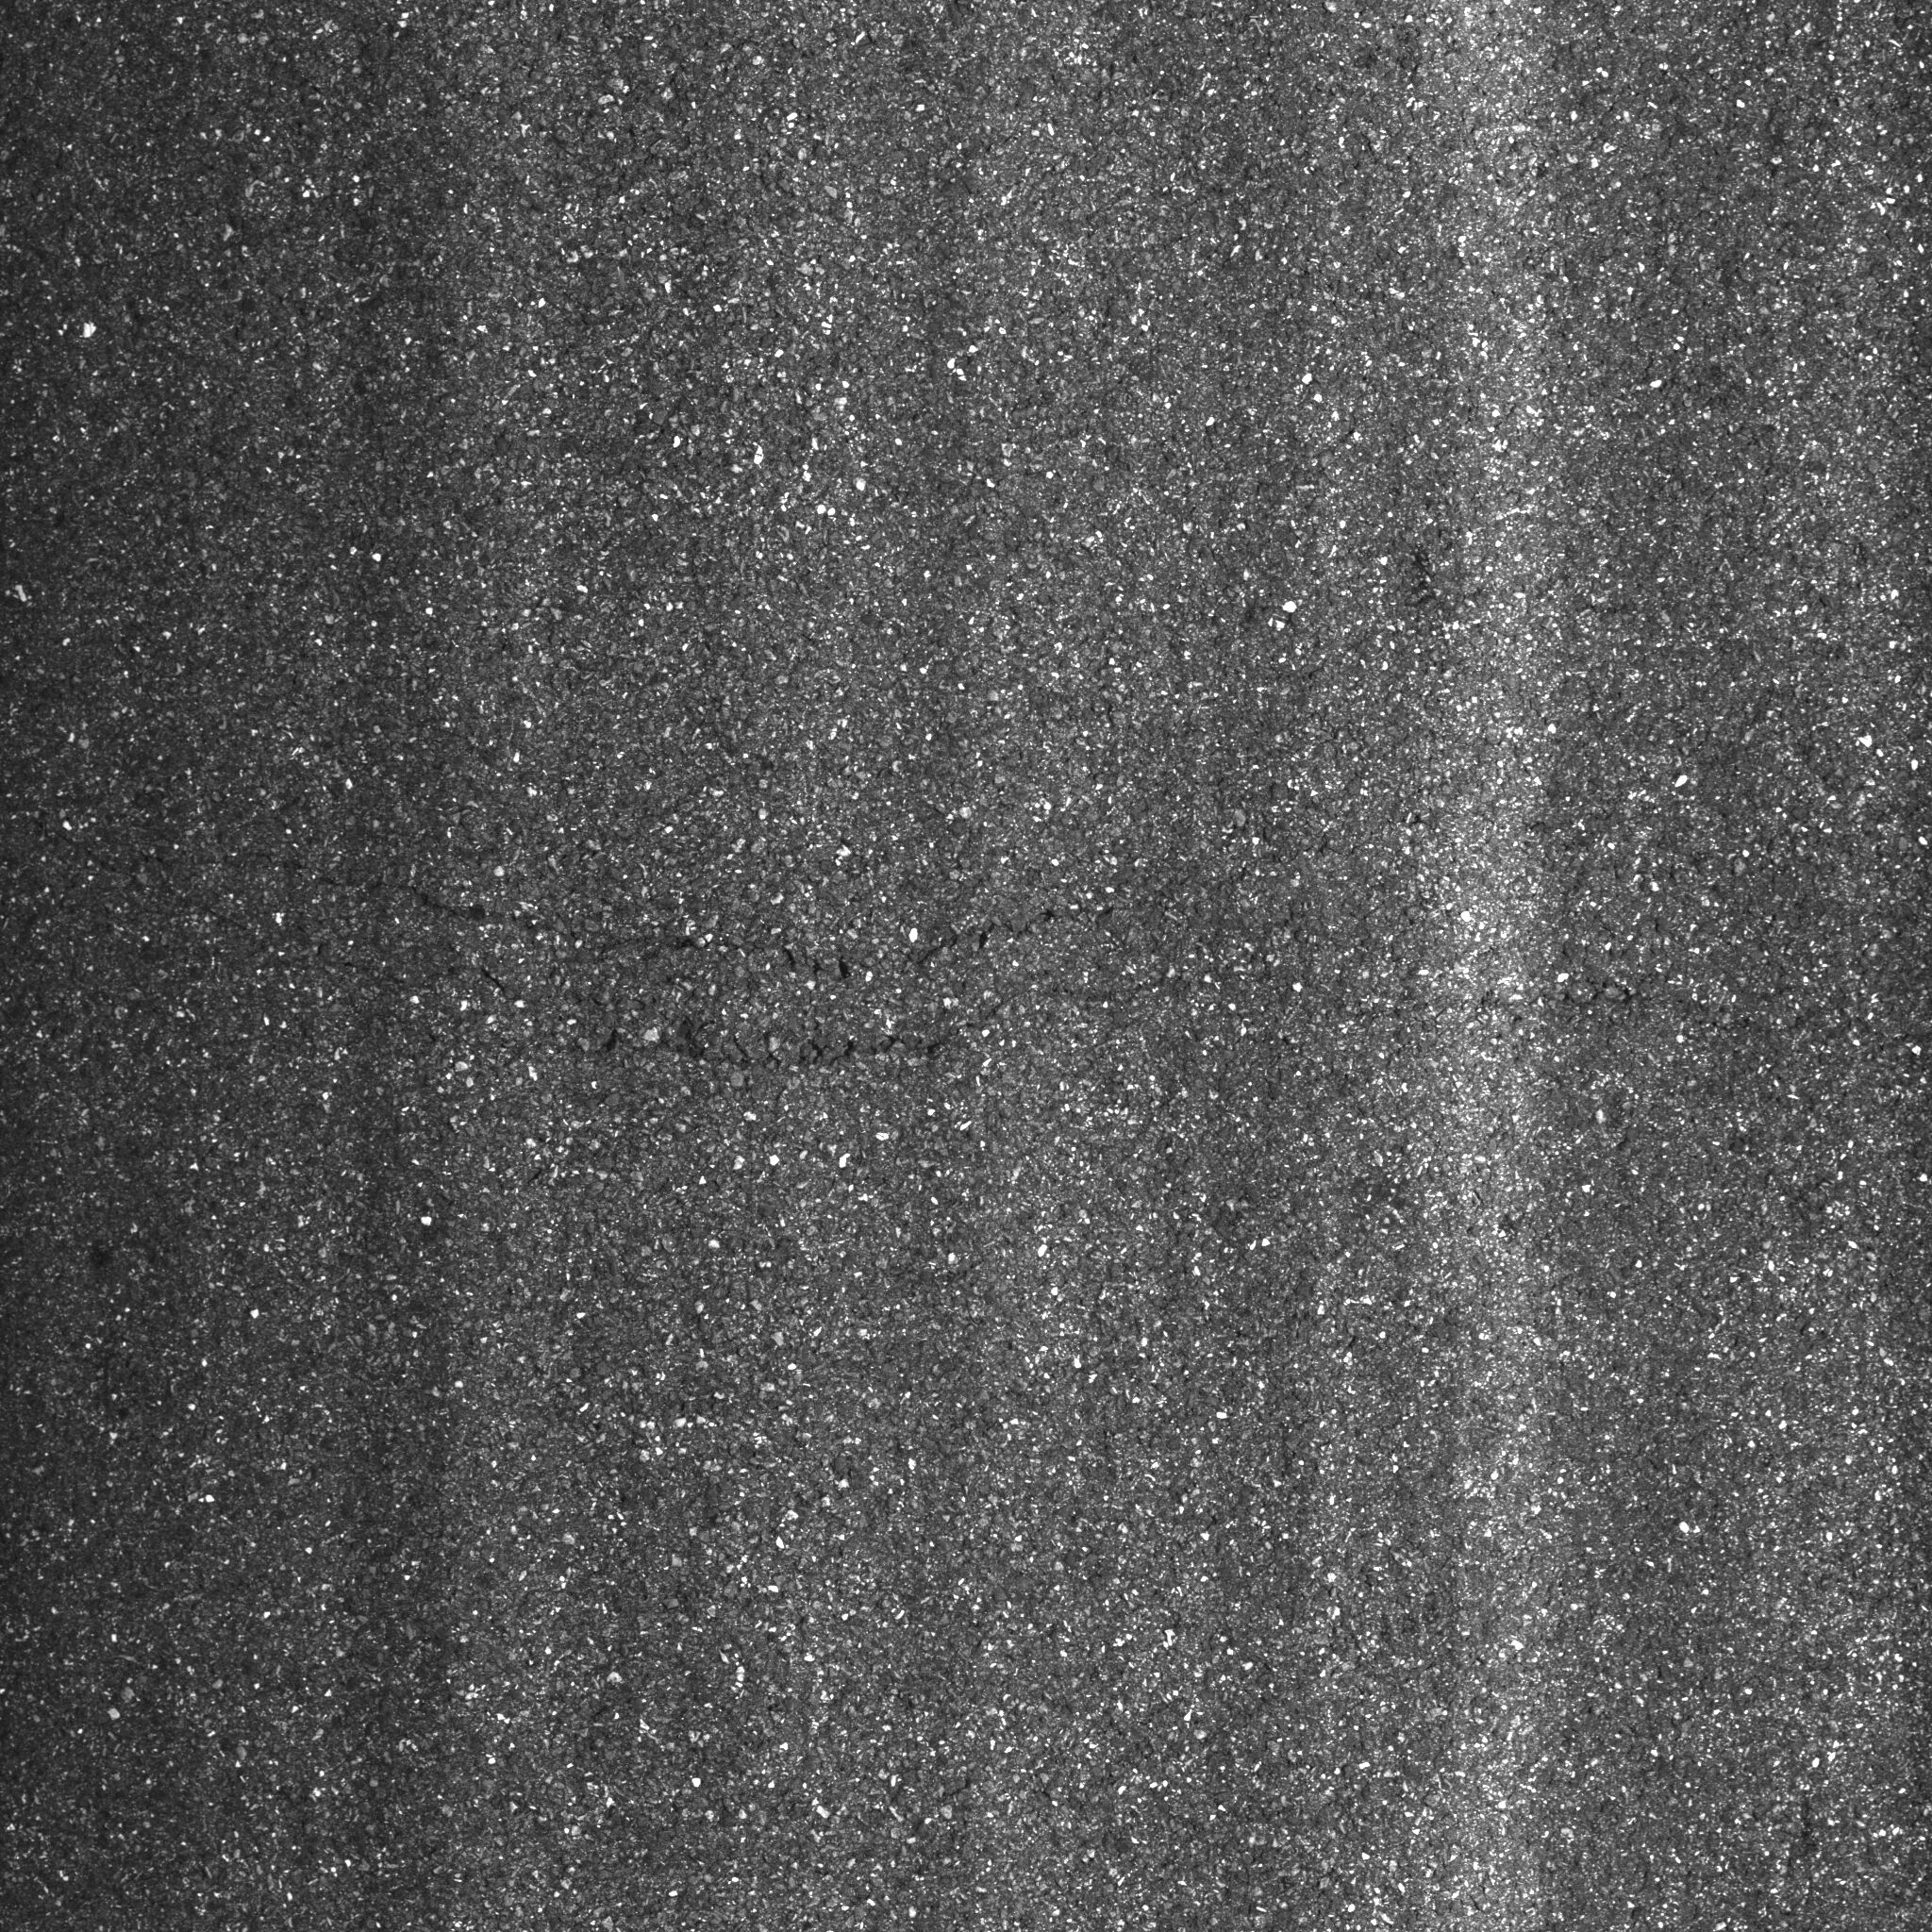transverse: (154, 878, 1410, 1120)
